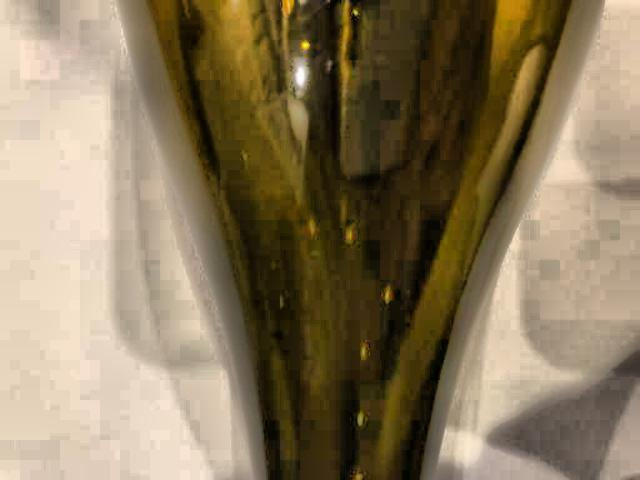Bottles: (137, 0, 639, 474)
